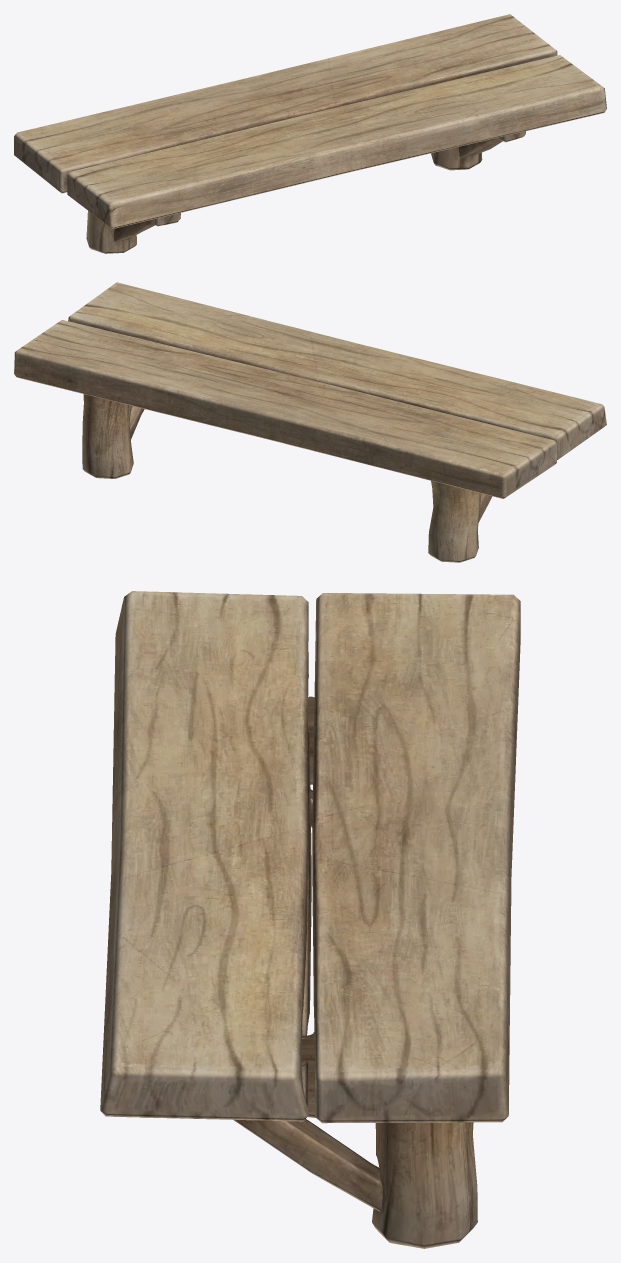
3 renders of one model, top to bottom at view 1: azimuth 30°, elevation 25°; view 2: azimuth 150°, elevation 25°; view 3: azimuth 270°, elevation 25°, orthographic. The views are drawn at different scales.
Visible parts, largest first — view 1: SM_Shelf_01v1_LOD0; view 2: SM_Shelf_01v1_LOD0; view 3: SM_Shelf_01v1_LOD0.
Part boxes in pixels (bbox=[...]): SM_Shelf_01v1_LOD0: bbox=[14, 14, 606, 253]; SM_Shelf_01v1_LOD0: bbox=[14, 282, 606, 562]; SM_Shelf_01v1_LOD0: bbox=[100, 591, 520, 1248].
Bounding box in the file's own units: 1.69 × 0.3735 × 0.6175.
Materials: 1 (1 with a texture image).
